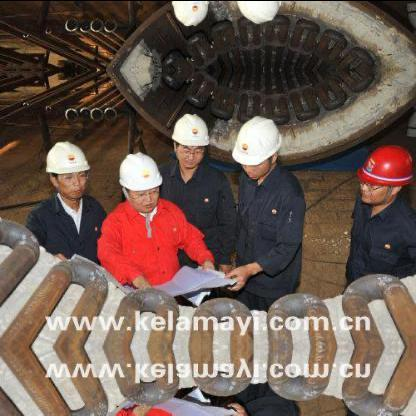Helmet: (356, 140, 413, 204), (231, 112, 282, 180), (43, 136, 92, 197), (113, 153, 161, 209), (169, 108, 211, 170), (168, 0, 212, 29), (230, 0, 282, 24)
